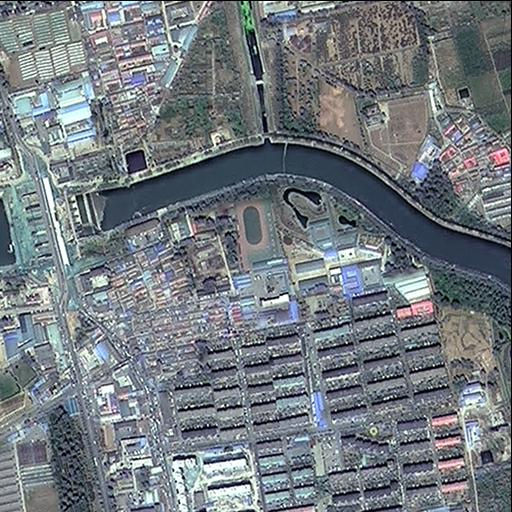school: (231, 190, 296, 321)
